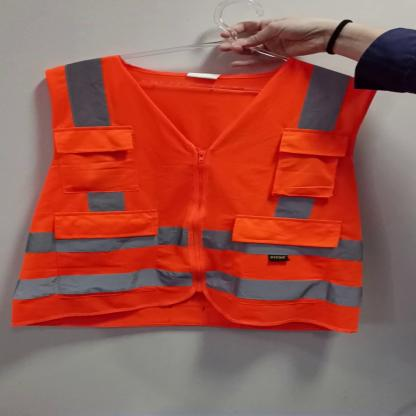colete: (9, 55, 376, 336)
